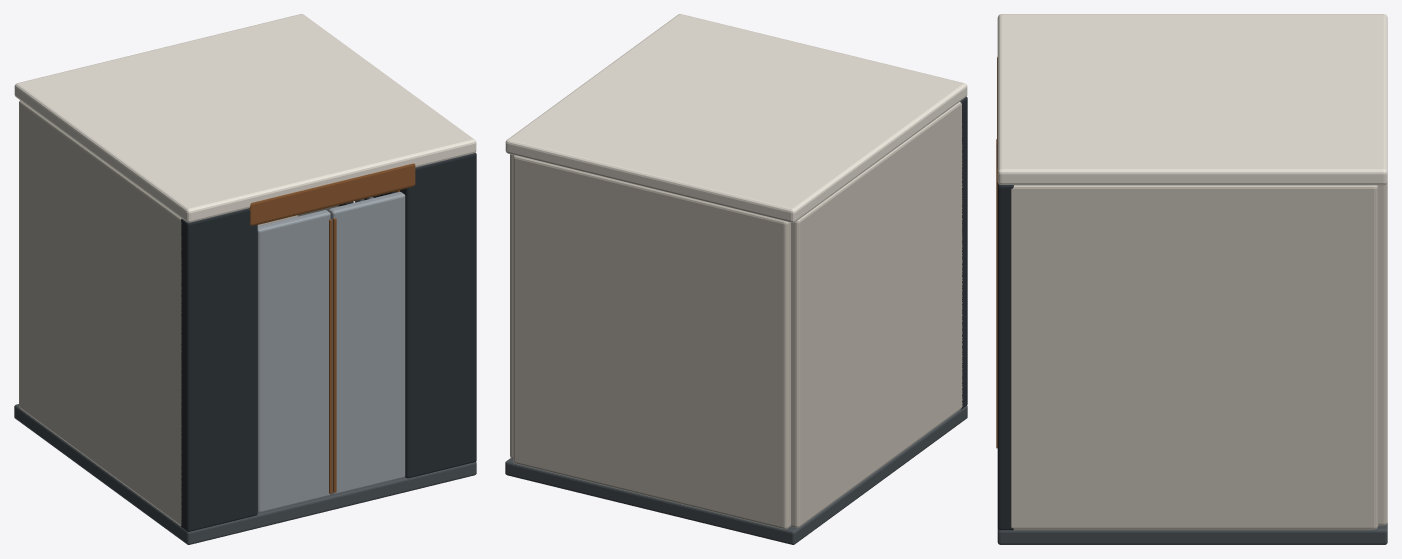
File: HospitalInterior_E01_Cabin_R03.fbx
3 renders of one model, left to right at view 1: azimuth 30°, elevation 25°; view 2: azimuth 150°, elevation 25°; view 3: azimuth 270°, elevation 25°, orthographic. The views are drawn at different scales.
Visible parts, largest first — view 1: S3A_R03_E01_CabinCeiling, S3A_R03_E01_LSideWall, S3A_R03_E01_LFrontPocketReturn, S3A_R03_E01_RFrontPocketReturn, S3A_R03_E01_CabinDoor_L, S3A_R03_E01_CabinDoor_R, S3A_R03_E01_CabinFloor, S3A_R03_E01_InteriorDoorHeader; view 2: S3A_R03_E01_RearWall, S3A_R03_E01_CabinCeiling, S3A_R03_E01_LSideWall, S3A_R03_E01_CabinFloor, S3A_R03_E01_LFrontPocketReturn, S3A_R03_E01_RSideWall; view 3: S3A_R03_E01_RSideWall, S3A_R03_E01_CabinCeiling, S3A_R03_E01_CabinFloor, S3A_R03_E01_RFrontPocketReturn, S3A_R03_E01_RearWall, S3A_R03_E01_CabinDoor_R.
Boxes of the visible parts, x1,y1,x2,y2 form: S3A_R03_E01_CabinCeiling: [14, 14, 476, 222]; S3A_R03_E01_LSideWall: [19, 100, 181, 525]; S3A_R03_E01_LFrontPocketReturn: [181, 208, 257, 531]; S3A_R03_E01_RFrontPocketReturn: [400, 153, 476, 478]; S3A_R03_E01_CabinDoor_L: [257, 210, 332, 513]; S3A_R03_E01_CabinDoor_R: [328, 191, 405, 494]; S3A_R03_E01_CabinFloor: [14, 404, 476, 544]; S3A_R03_E01_InteriorDoorHeader: [249, 163, 415, 225]; S3A_R03_E01_RearWall: [513, 155, 790, 529]; S3A_R03_E01_CabinCeiling: [505, 14, 967, 222]; S3A_R03_E01_LSideWall: [791, 102, 962, 527]; S3A_R03_E01_CabinFloor: [505, 406, 967, 544]; S3A_R03_E01_LFrontPocketReturn: [960, 96, 967, 409]; S3A_R03_E01_RSideWall: [510, 154, 513, 458]; S3A_R03_E01_RSideWall: [1011, 185, 1378, 529]; S3A_R03_E01_CabinCeiling: [997, 14, 1387, 185]; S3A_R03_E01_CabinFloor: [997, 523, 1387, 544]; S3A_R03_E01_RFrontPocketReturn: [997, 182, 1013, 530]; S3A_R03_E01_RearWall: [1378, 182, 1387, 525]; S3A_R03_E01_CabinDoor_R: [996, 141, 997, 448].
Size of the model in its own units: 2.35 by 2.6 by 2.46.
